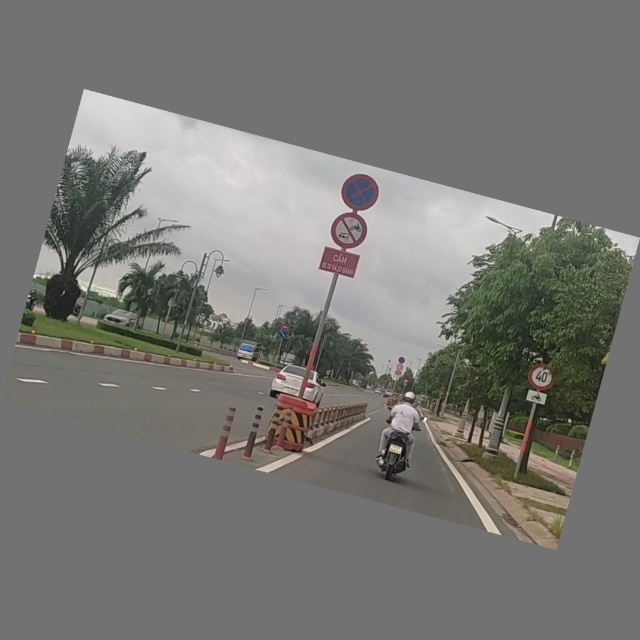P.111: (324, 209, 373, 256)
P.127*40: (525, 362, 558, 395)
P.130: (335, 168, 383, 217)
S.505a*Xe may: (522, 389, 550, 409)
